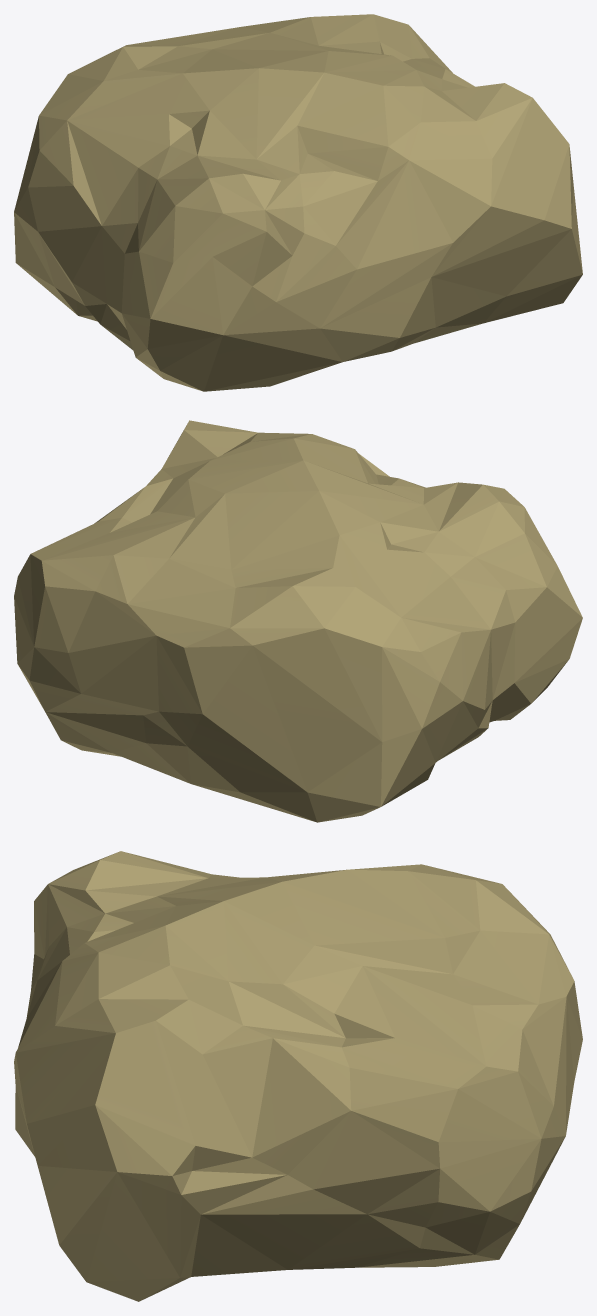
Rendered from SM_rock_48.fbx.
3 renders of one model, top to bottom at view 1: azimuth 30°, elevation 25°; view 2: azimuth 150°, elevation 25°; view 3: azimuth 270°, elevation 25°, orthographic. The views are drawn at different scales.
Visible parts, largest first — view 1: rock_48; view 2: rock_48; view 3: rock_48.
Boxes of the visible parts, x1=… form: rock_48: x1=14, y1=14, x2=582, y2=391; rock_48: x1=14, y1=420, x2=582, y2=822; rock_48: x1=14, y1=851, x2=582, y2=1301.
Bounding box in the file's own units: 260 × 148 × 246.
